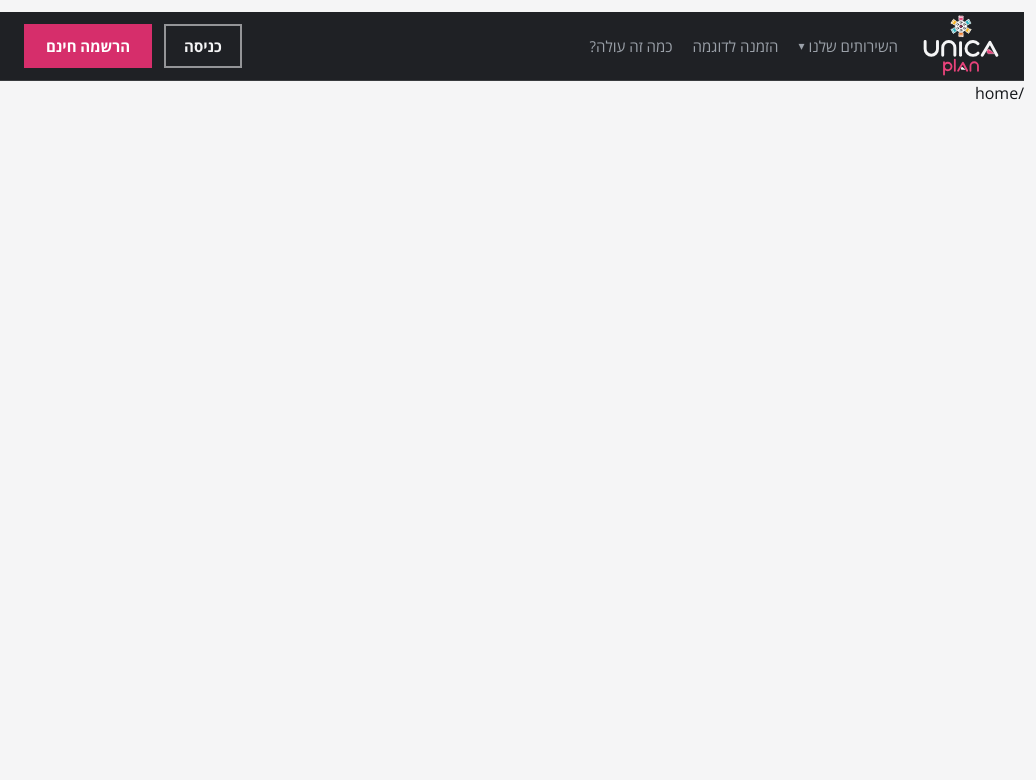
Test: site header — the services disclosure › a press outside closes it; a press inside does not
Click the button "השירותים שלנו ▾". click: click(848, 46)
box: [798,35,898,58]
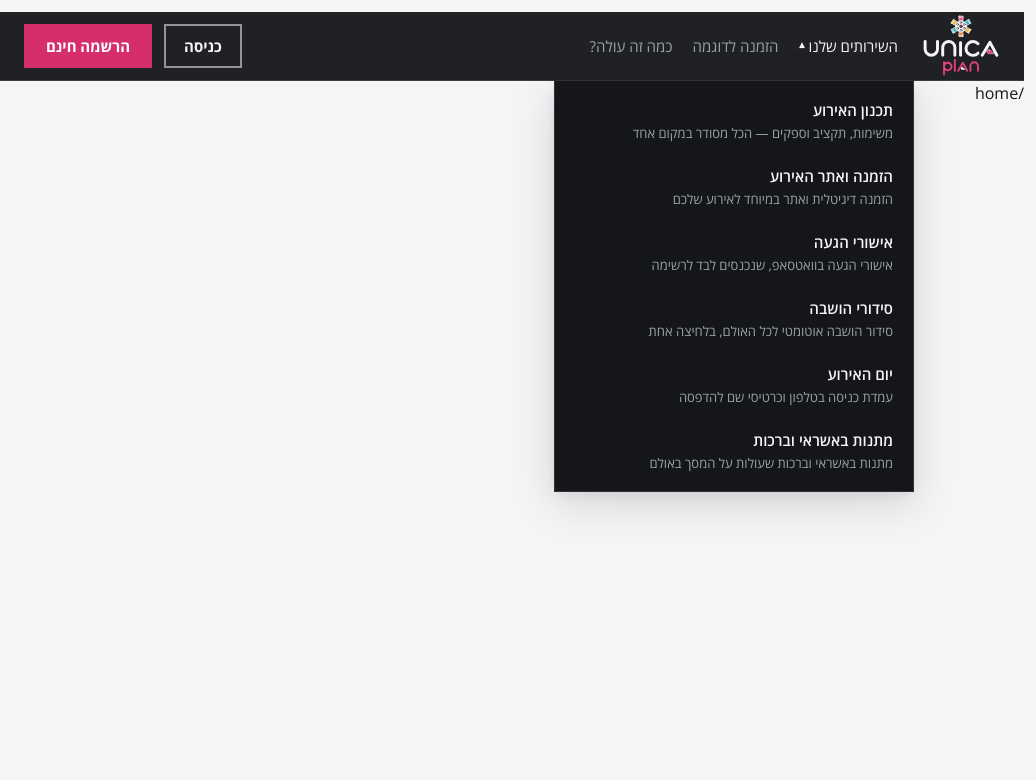
Press the mouse on the list at (734, 286), box [554,80,914,492]
Expected: the button "השירותים שלנו ▾" is expanded, [798,35,898,58]
Press the mouse on the element that starts with "דלגו לתוכן" at (512, 396), box [0,12,1024,779]
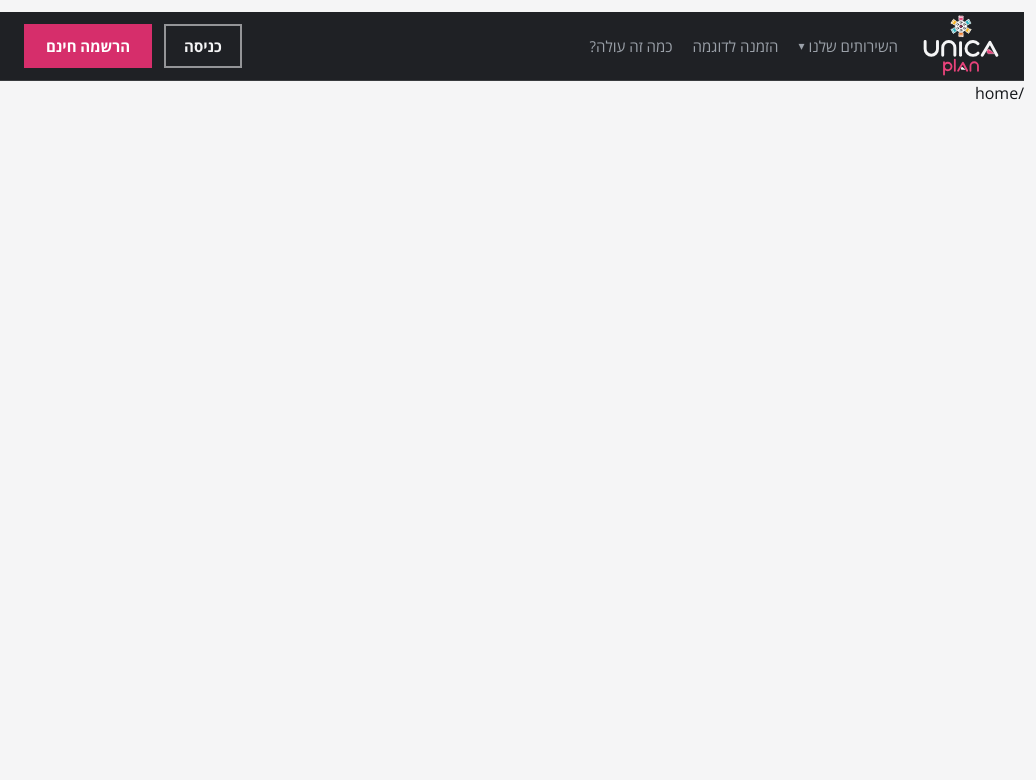
Expected: the button "השירותים שלנו ▾" is collapsed, [798,35,898,58]
